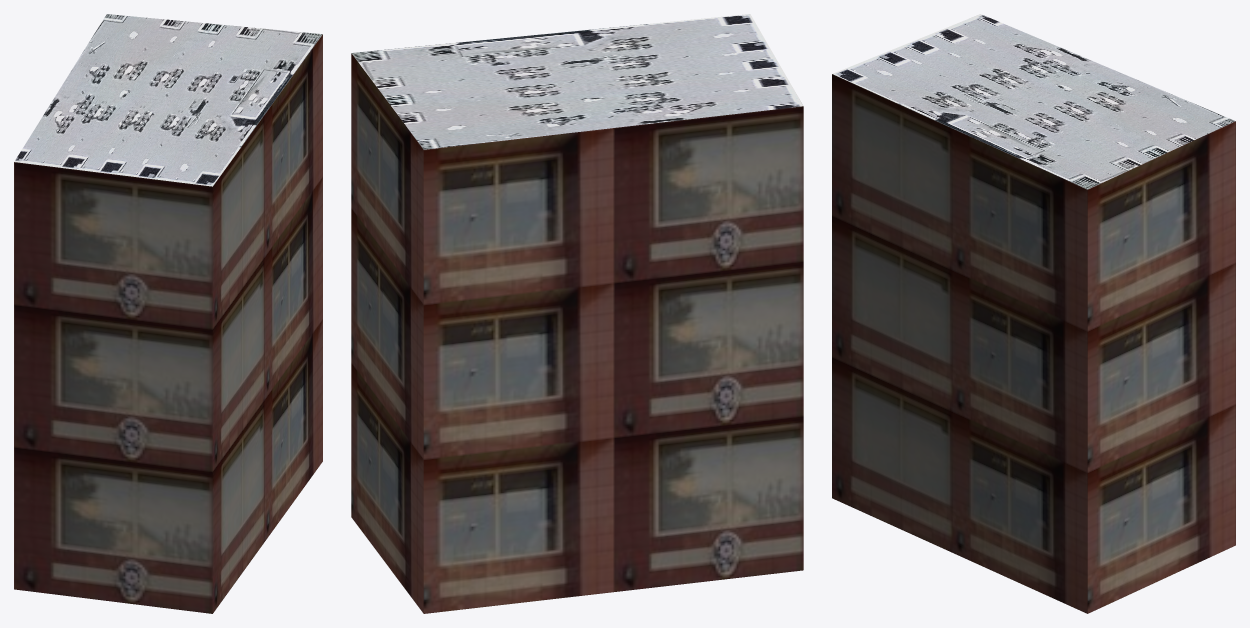
The model's file is ResTex__3539.fbx.
3 renders of one model, left to right at view 1: azimuth 30°, elevation 25°; view 2: azimuth 150°, elevation 25°; view 3: azimuth 270°, elevation 25°, orthographic. The views are drawn at different scales.
Parts seen in each view (by area): view 1: CityEngineMaterial_13_m, CityEngineMaterial_m; view 2: CityEngineMaterial_13_m, CityEngineMaterial_m; view 3: CityEngineMaterial_13_m, CityEngineMaterial_m.
Part boxes in pixels (bbox=[...]): CityEngineMaterial_13_m: bbox=[14, 34, 322, 613]; CityEngineMaterial_m: bbox=[14, 14, 322, 186]; CityEngineMaterial_13_m: bbox=[351, 53, 803, 613]; CityEngineMaterial_m: bbox=[351, 14, 803, 149]; CityEngineMaterial_13_m: bbox=[832, 74, 1235, 613]; CityEngineMaterial_m: bbox=[832, 14, 1235, 189].
Size of the model in its own units: 7.99 by 9 by 7.76.
Materials: 2 (2 with a texture image).
